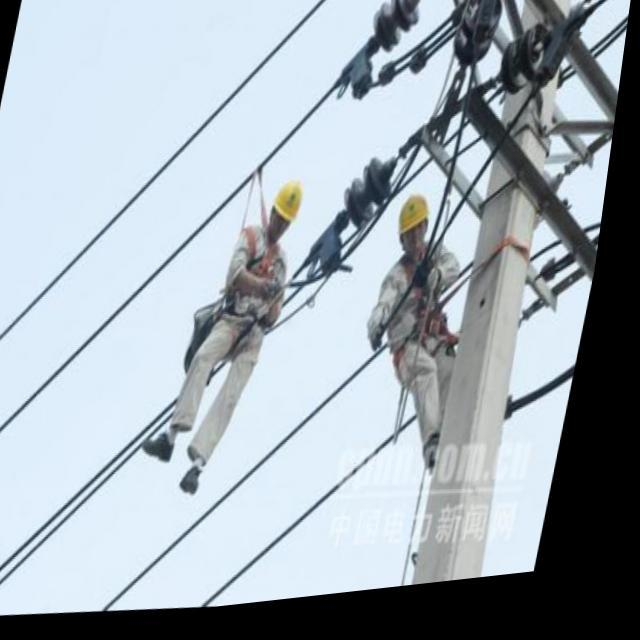belt: (424, 265, 486, 340), (246, 252, 298, 338)
